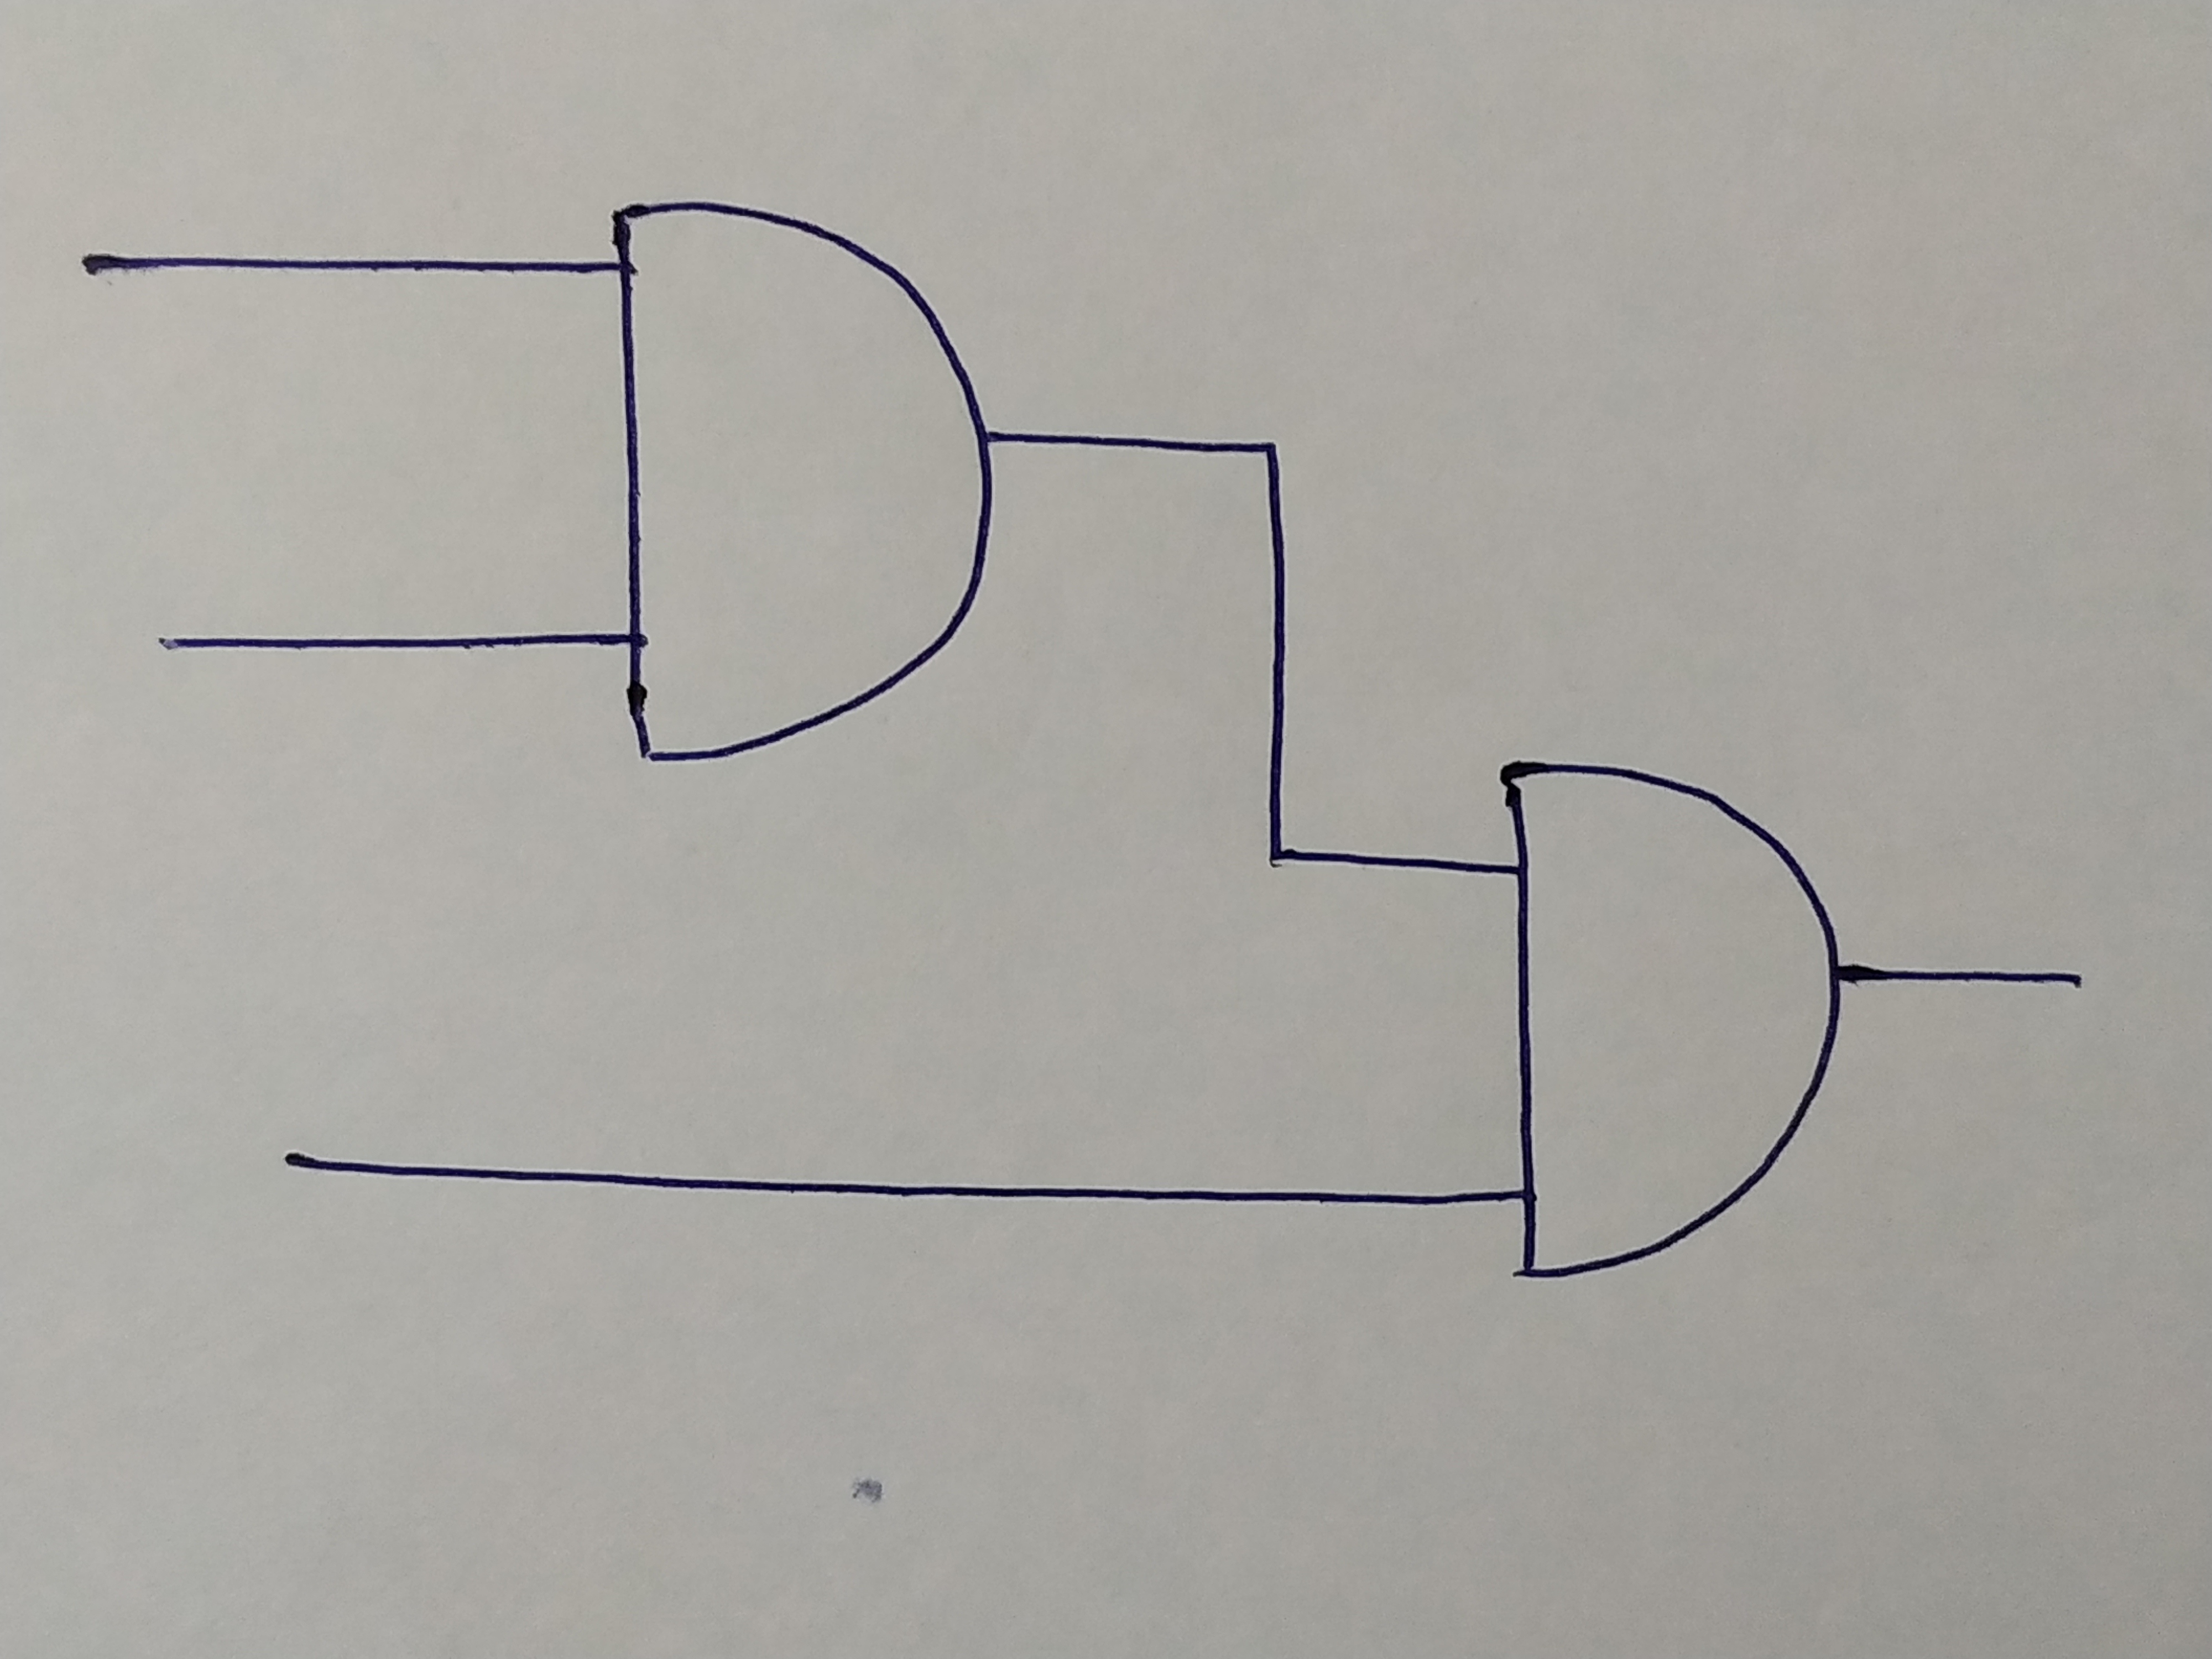and: (610, 197, 991, 762), (1503, 765, 1843, 1279)
